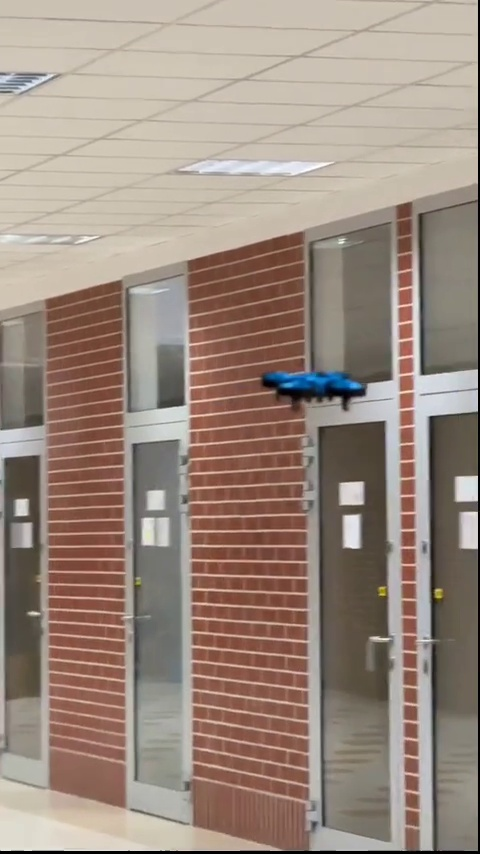drone: (259, 366, 365, 411)
